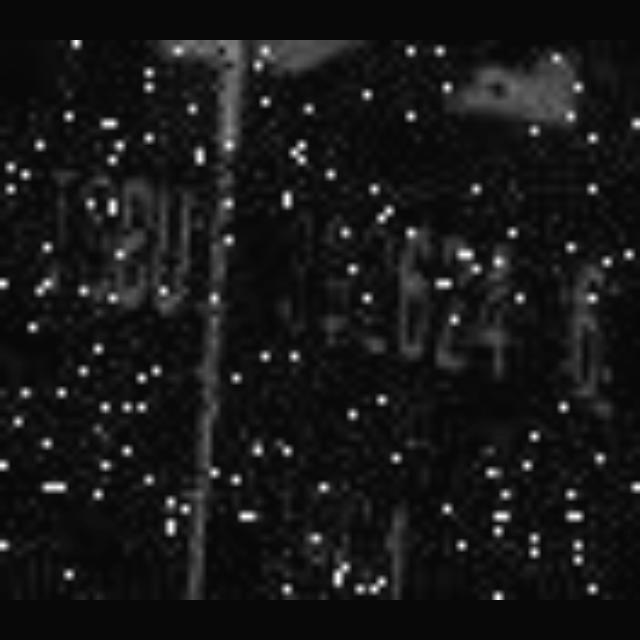2: (434, 225, 476, 375)
4: (482, 232, 520, 388)
6: (565, 257, 617, 405), (395, 224, 429, 372)
b: (120, 153, 156, 321)
s: (84, 158, 120, 324)
t: (28, 155, 82, 309)
u: (157, 148, 197, 324)
